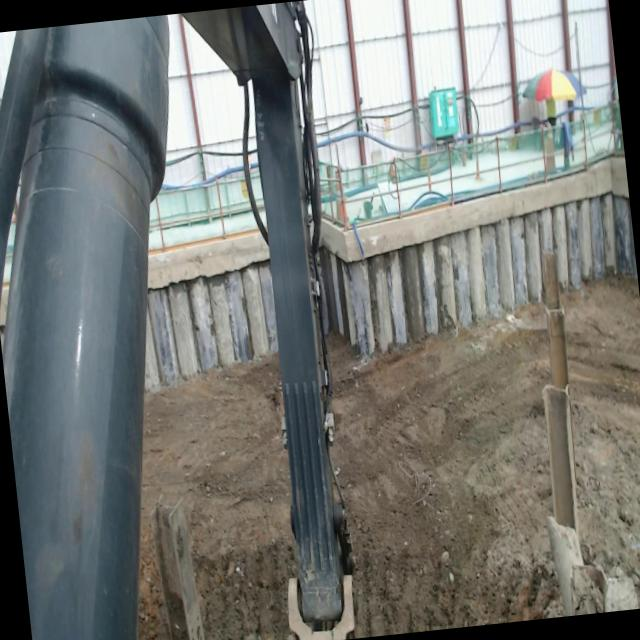white-sand: (329, 303, 563, 638), (138, 355, 297, 640), (561, 278, 640, 608)
